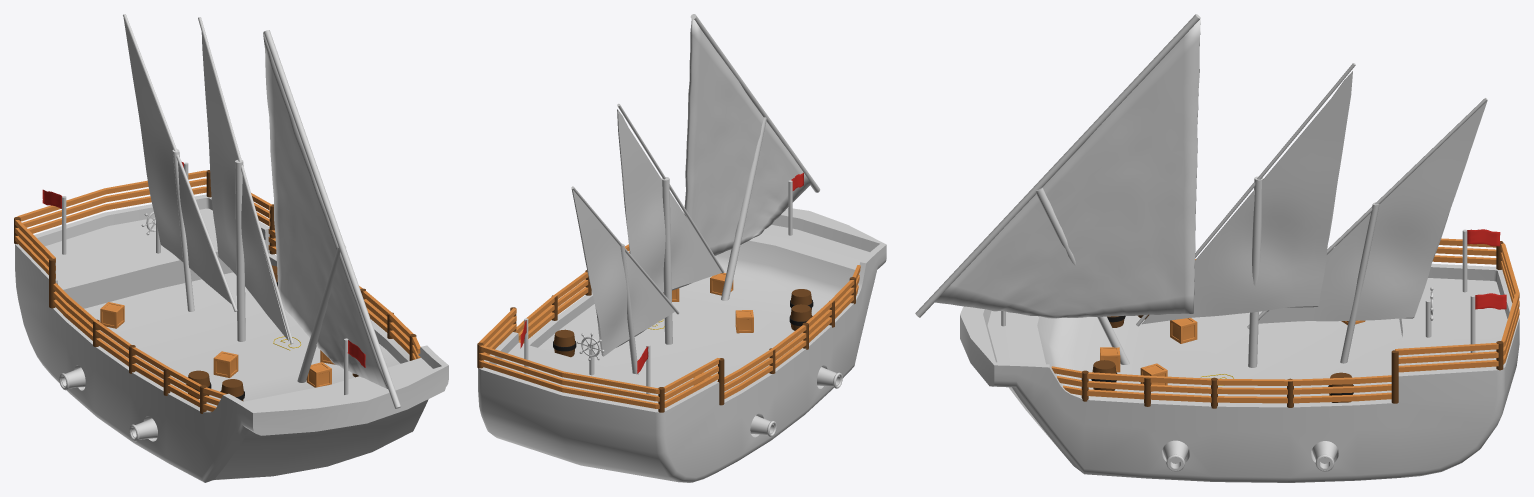
The model's file is Ship (Player) (FOR TESTING ONLY).fbx.
3 views of the same model, side by side, from view 1: azimuth 30°, elevation 25°; view 2: azimuth 150°, elevation 25°; view 3: azimuth 270°, elevation 25° (orthographic). The views are drawn at different scales.
Visible parts, largest first — view 1: Cube.001, Cylinder.016, Cube.002, Cylinder.007, Cylinder.005, Cylinder.015, Cube.003, Cylinder.002, Cylinder.006, Cylinder.004, Cylinder.014, Cylinder.003 (+3 smaller); view 2: Cube.001, Cylinder.016, Cube.002, Cylinder.007, Cylinder.005, Cylinder.014, Cube.003, Cylinder.002, Cylinder.015, Cylinder.006, Cylinder.003, Cylinder.008 (+2 smaller); view 3: Cube.001, Cylinder.016, Cylinder.007, Cylinder.005, Cube.002, Cylinder.015, Cube.003, Cylinder.002, Cylinder.003, Cylinder.014, Cylinder.006, Cylinder.004 (+1 smaller).
Boxes of the visible parts, x1,y1,x2,y2 form: Cube.001: (15,194,448,482); Cylinder.016: (263,32,387,388); Cube.002: (15,170,420,411); Cylinder.007: (201,32,289,341); Cylinder.005: (123,18,231,303); Cylinder.015: (263,30,400,408); Cube.003: (14,170,416,413); Cylinder.002: (235,160,245,341); Cylinder.006: (198,17,293,344); Cylinder.004: (123,14,237,311); Cylinder.014: (297,245,346,382); Cylinder.003: (172,149,194,311); Cube.001: (478,208,886,482); Cylinder.016: (684,19,811,255); Cube.002: (478,244,860,408); Cylinder.007: (617,109,721,293); Cylinder.005: (571,189,674,356); Cylinder.014: (721,117,766,300); Cube.003: (477,270,855,412); Cylinder.002: (661,177,672,344); Cylinder.015: (690,14,820,192); Cylinder.006: (617,103,724,273); Cylinder.003: (620,243,638,374); Cylinder.008: (553,329,576,357); Cube.001: (960,263,1519,482); Cylinder.016: (934,18,1200,318); Cylinder.007: (1142,71,1352,324); Cylinder.005: (1258,100,1487,323); Cube.002: (1051,238,1519,403); Cylinder.015: (915,14,1200,317); Cube.003: (1081,241,1503,408); Cylinder.002: (1248,176,1263,367); Cylinder.003: (1340,202,1379,363); Cylinder.014: (1035,187,1129,364); Cylinder.006: (1136,63,1355,326); Cylinder.004: (1247,98,1487,328).
Bounding box in the file's own units: 275 × 386 × 503.
